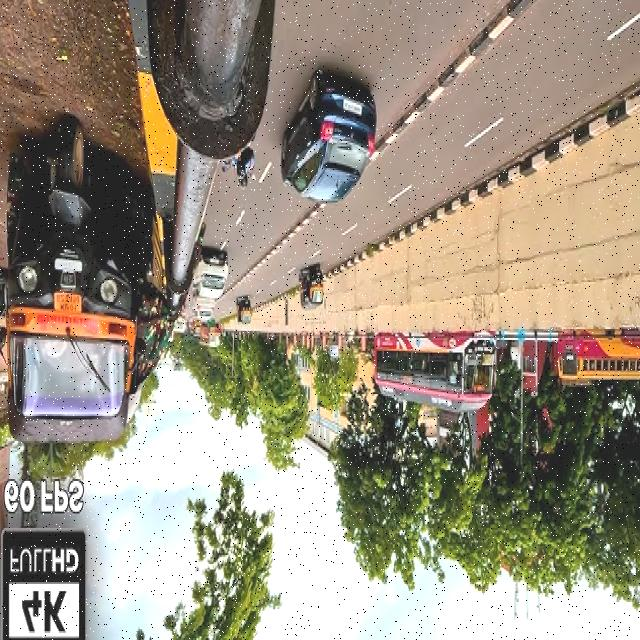plate: (53, 291, 83, 318), (341, 95, 366, 116), (208, 255, 220, 265)
